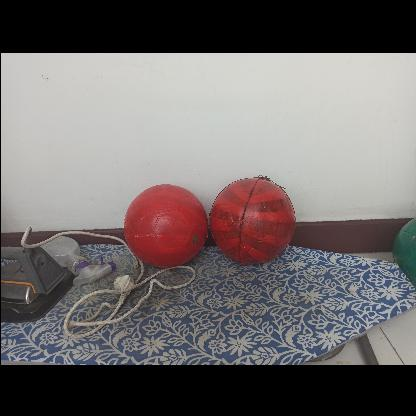red_ball: (209, 178, 294, 262), (124, 181, 208, 264)
